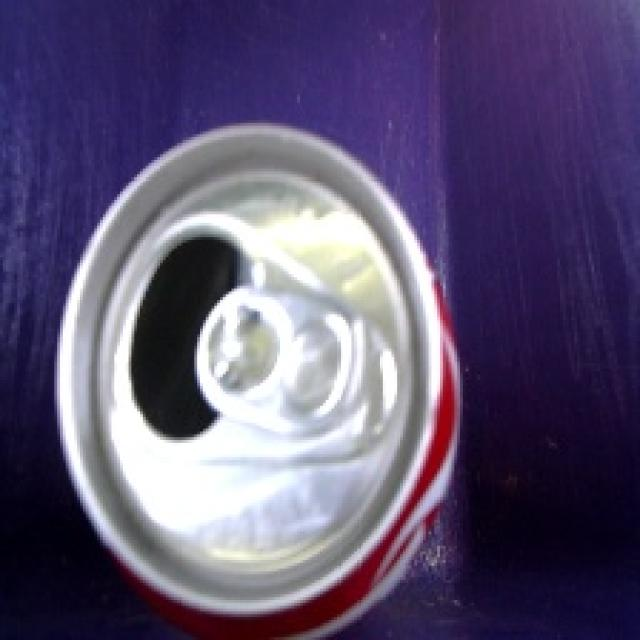metal: (40, 105, 485, 640)
